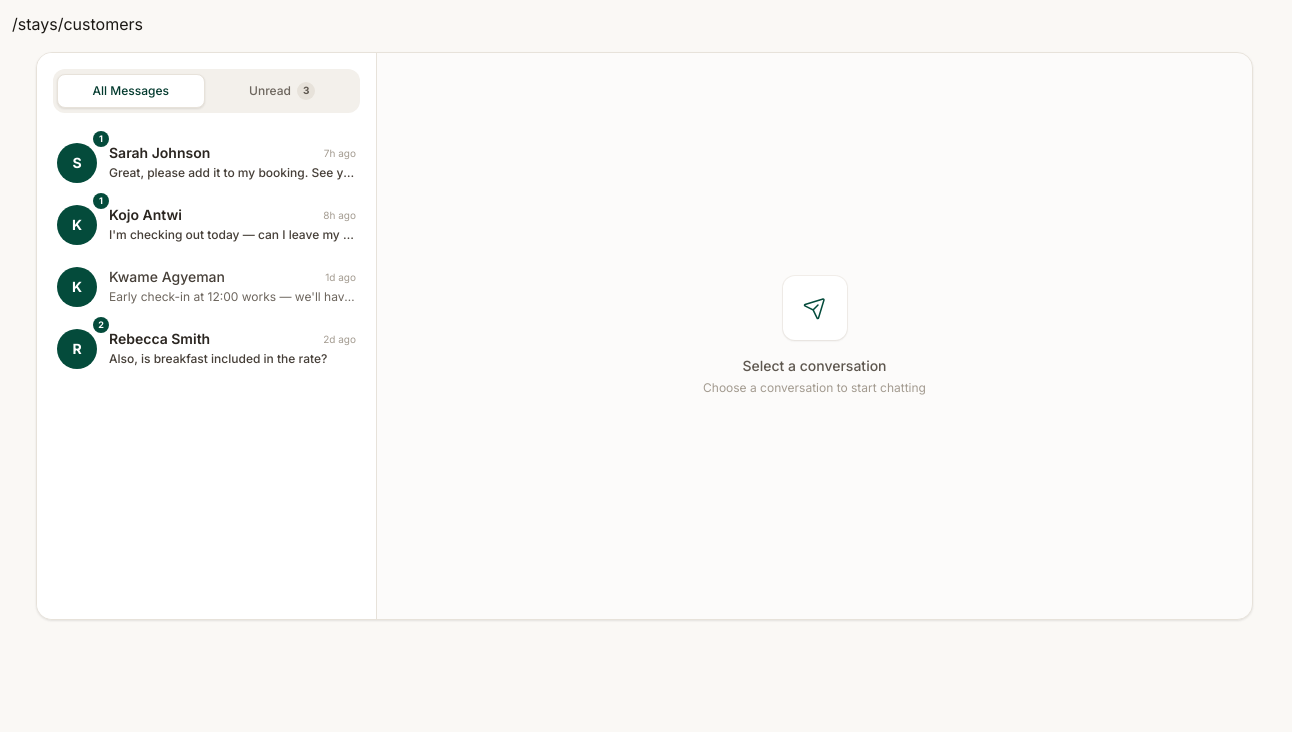
StaysCustomersPage — experiences-parity customers chat › opens a thread and sends a reply
This screenshot has width=1292, height=732.
Click the text "Sarah Johnson": (160, 153) x1=109 y1=143 x2=210 y2=163
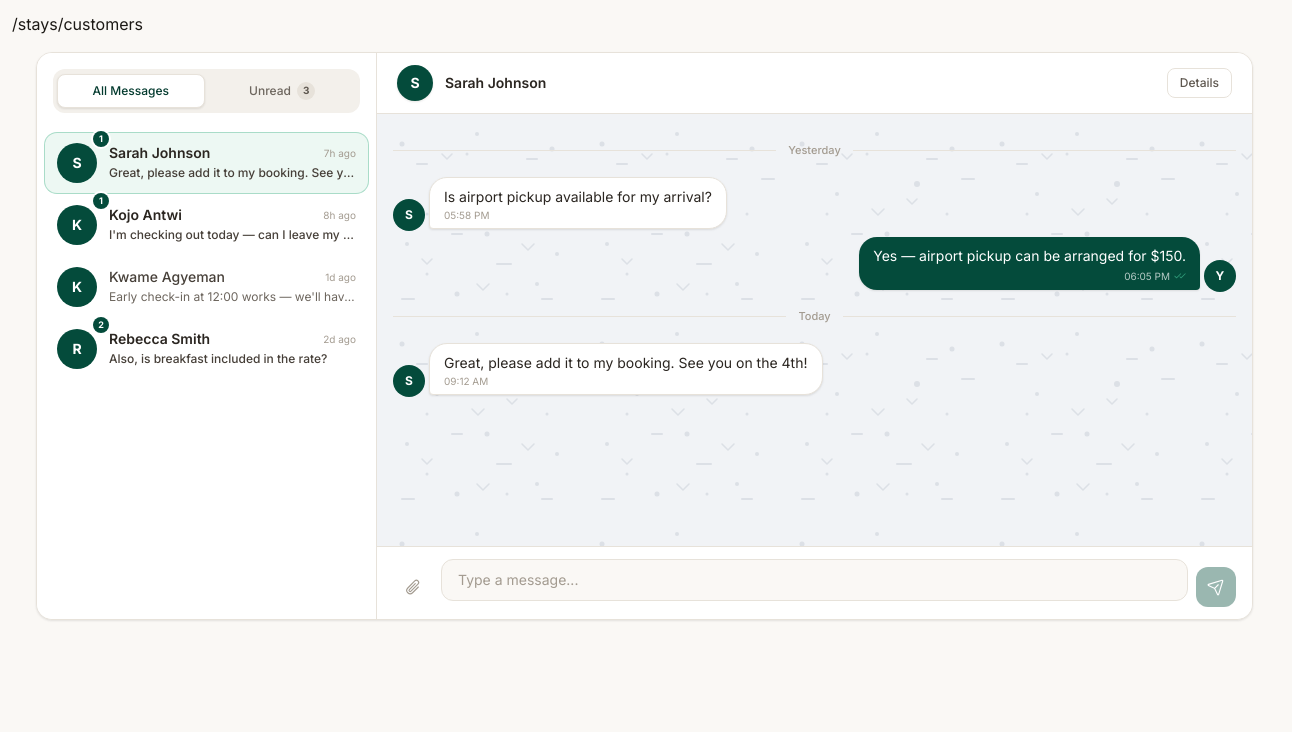
Result: the text "Is airport pickup available for my arrival?" is shown at x1=444 y1=188 x2=712 y2=204
Result: the text "Yes — airport pickup can be arranged for $150." is shown at x1=873 y1=247 x2=1186 y2=264
In the text box with placeholder "Type a message...": (814, 580) x1=441 y1=559 x2=1188 y2=601, type "Adding it now."
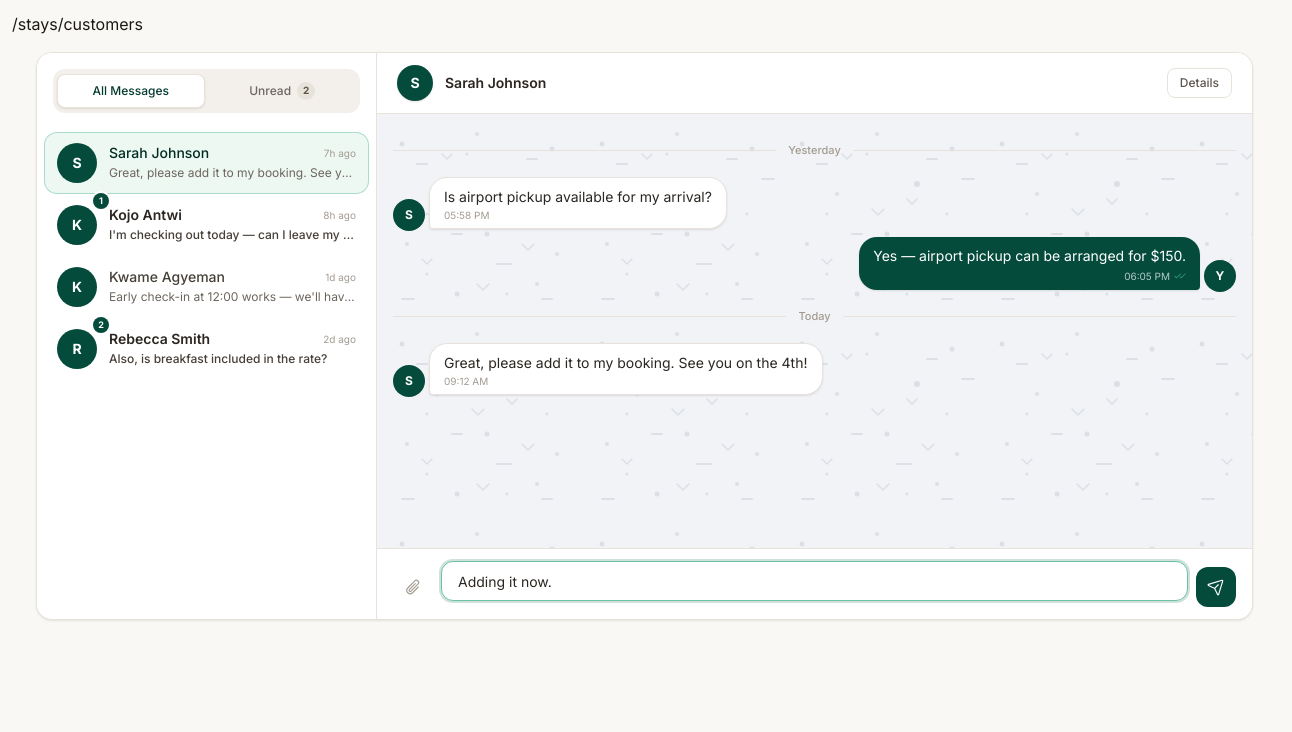
Press Enter
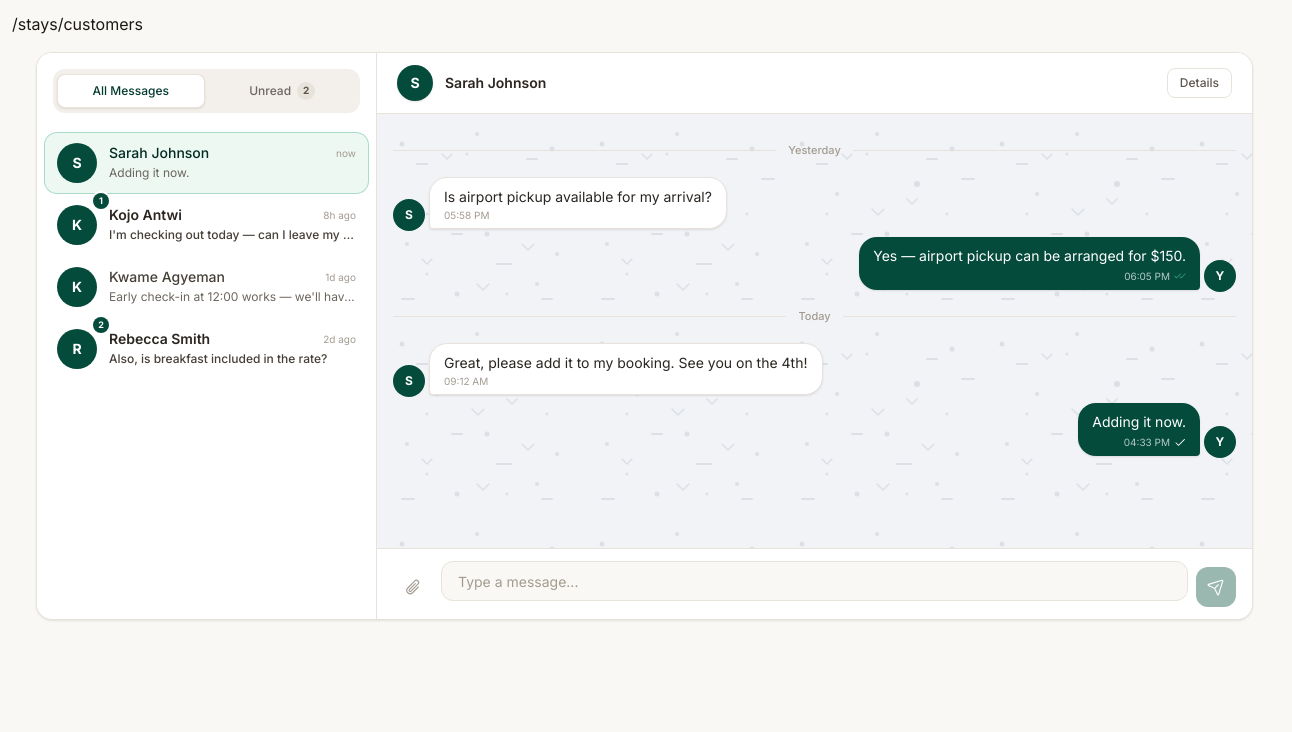
Result: the 1st text "Adding it now." is shown at x1=109 y1=165 x2=189 y2=180
